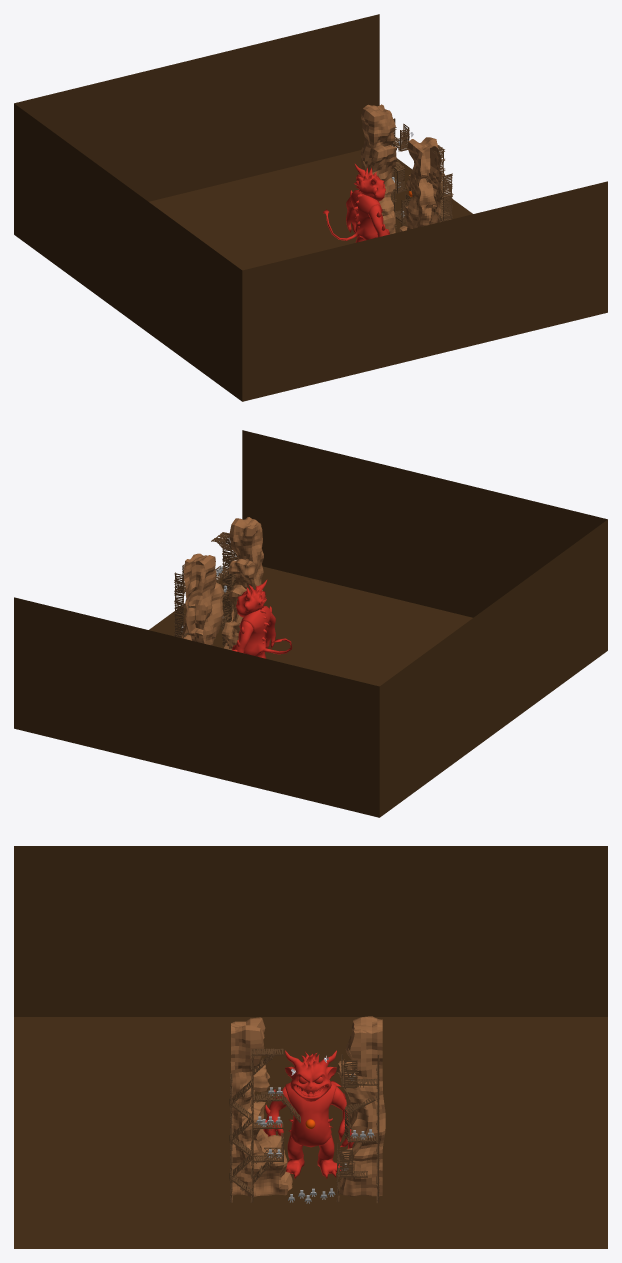
Rendered from satan_Scene.fbx.
3 renders of one model, top to bottom at view 1: azimuth 30°, elevation 25°; view 2: azimuth 150°, elevation 25°; view 3: azimuth 270°, elevation 25°, orthographic. The views are drawn at different scales.
Visible parts, largest first — view 1: Cube, Cube.002, devil_body, devil_head, devil_arms; view 2: Cube, Cube.002, devil_body, devil_head, devil_arms; view 3: Cube, Cube.002, devil_body, devil_head, devil_legs, devil_arms.
Boxes of the visible parts, bbox=[...] form: Cube: bbox=[14, 14, 607, 401]; Cube.002: bbox=[360, 104, 441, 234]; devil_body: bbox=[323, 190, 383, 240]; devil_head: bbox=[354, 164, 385, 201]; devil_arms: bbox=[346, 190, 389, 237]; Cube: bbox=[14, 430, 607, 817]; Cube.002: bbox=[181, 517, 263, 650]; devil_body: bbox=[238, 606, 292, 656]; devil_head: bbox=[236, 580, 266, 617]; devil_arms: bbox=[232, 606, 275, 653]; Cube: bbox=[14, 846, 607, 1248]; Cube.002: bbox=[230, 1016, 385, 1196]; devil_body: bbox=[285, 1080, 341, 1147]; devil_head: bbox=[285, 1050, 336, 1101]; devil_legs: bbox=[286, 1135, 341, 1178]; devil_arms: bbox=[263, 1086, 354, 1148].
Size of the model in its own units: 874 by 331 by 945.
